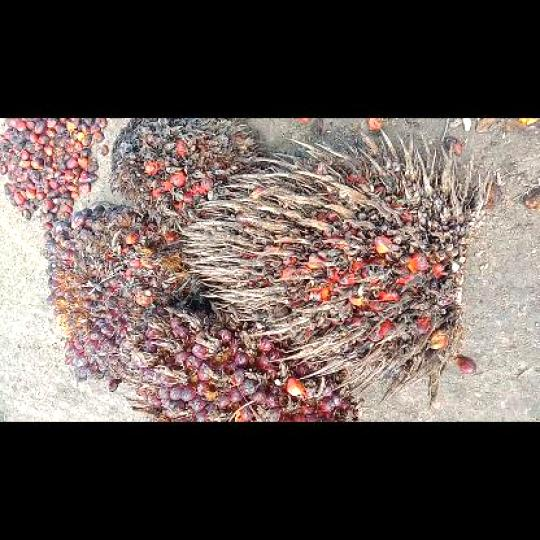masak: (43, 205, 206, 392), (122, 304, 356, 420)
terlalu masak: (178, 129, 488, 403), (108, 118, 263, 230)
